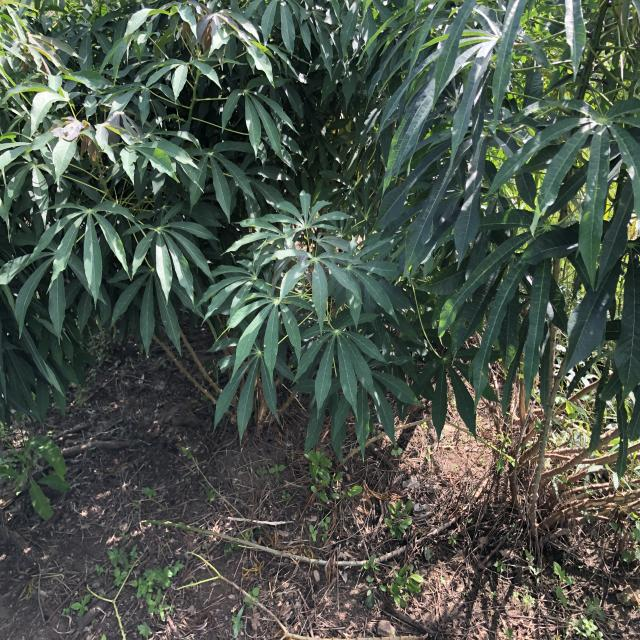Mosca: (78, 117, 91, 132), (368, 227, 384, 239), (283, 317, 294, 328), (405, 260, 415, 271), (257, 340, 268, 350)
